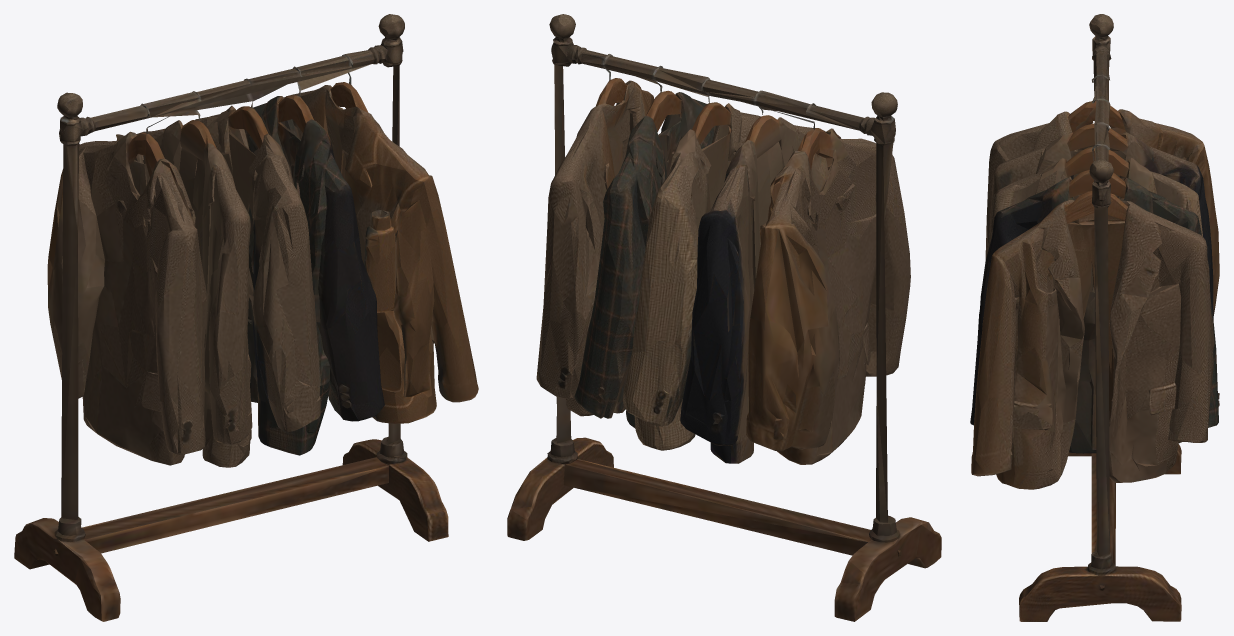
File: rack.glb
3 views of the same model, side by side, from view 1: azimuth 30°, elevation 25°; view 2: azimuth 150°, elevation 25°; view 3: azimuth 270°, elevation 25° (orthographic). The views are drawn at different scales.
Visible parts, largest first — view 1: Mesh_0; view 2: Mesh_0; view 3: Mesh_0.
Boxes of the visible parts, x1,y1,x2,y2 form: Mesh_0: (14, 14, 478, 621); Mesh_0: (507, 14, 941, 621); Mesh_0: (970, 14, 1219, 621).
Bounding box in the file's own units: 1.45 × 1.9 × 0.9402.
1 material, 1 textured.
